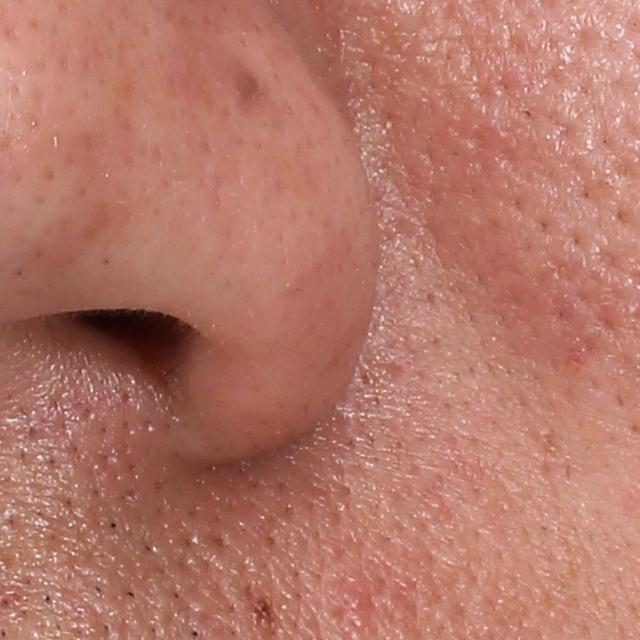nevus: (248, 593, 279, 634)
